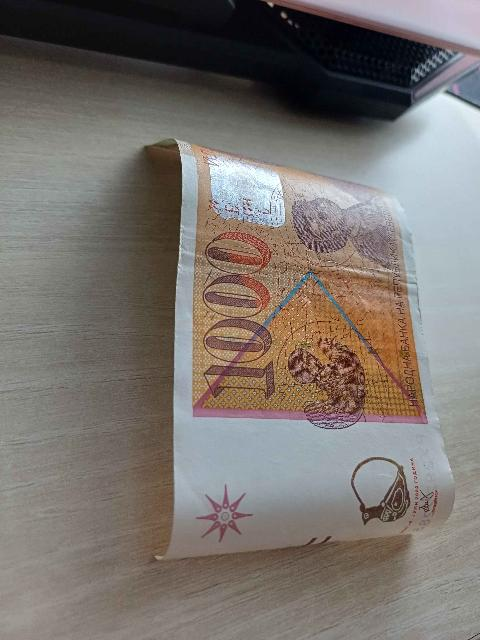1000_note: (141, 127, 457, 577)
